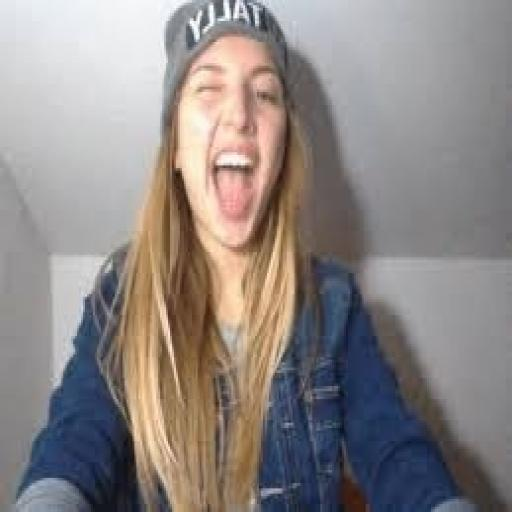laughing: (1, 0, 492, 509)
